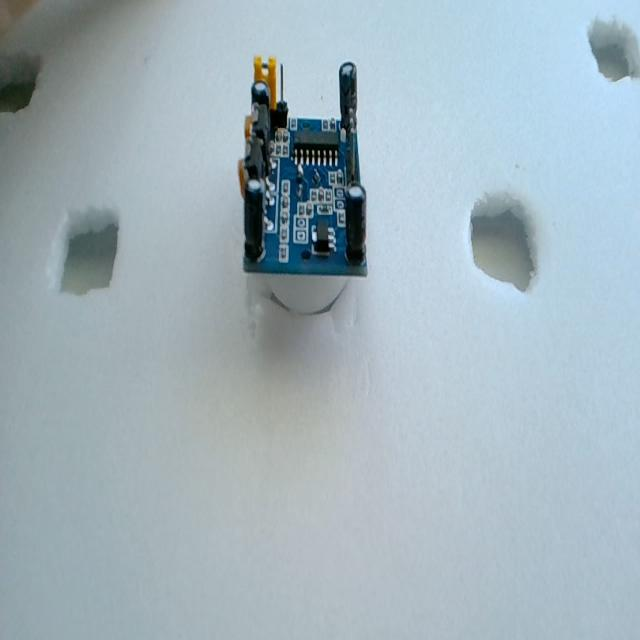Electrolytic capacitor: (248, 79, 278, 153), (344, 183, 367, 260), (244, 180, 264, 259), (337, 58, 365, 114)
IC: (292, 128, 339, 166)
pinheader: (336, 106, 366, 178)
